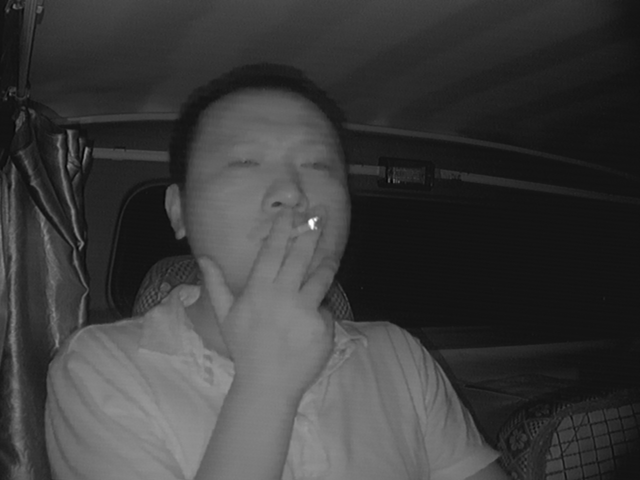hand: (242, 210, 344, 329)
